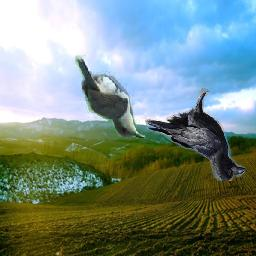Crow: (145, 89, 245, 182)
Cuckoo: (75, 55, 145, 139)
